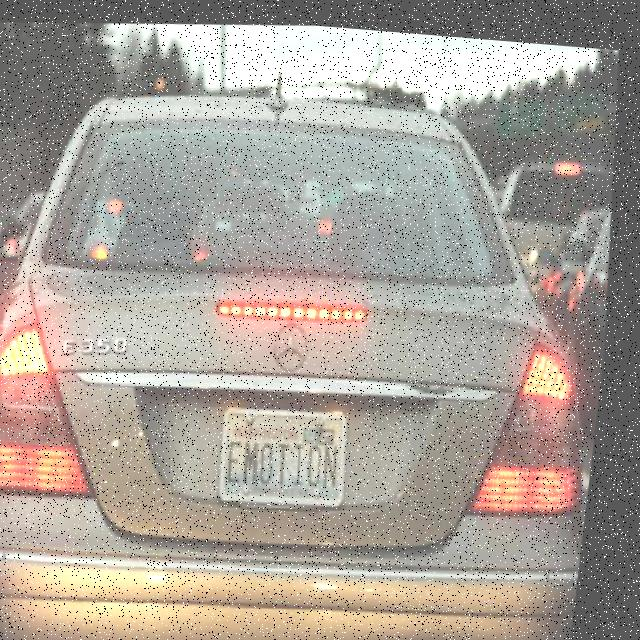license_plate: (224, 394, 362, 508)
